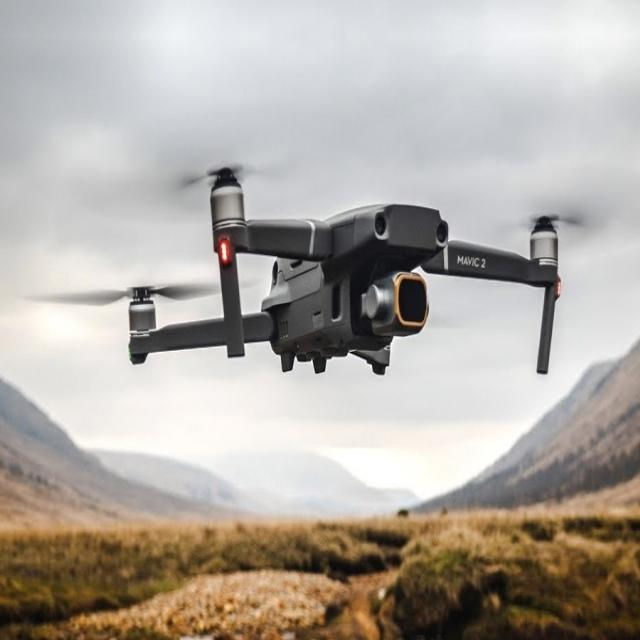drone: (21, 150, 638, 378)
